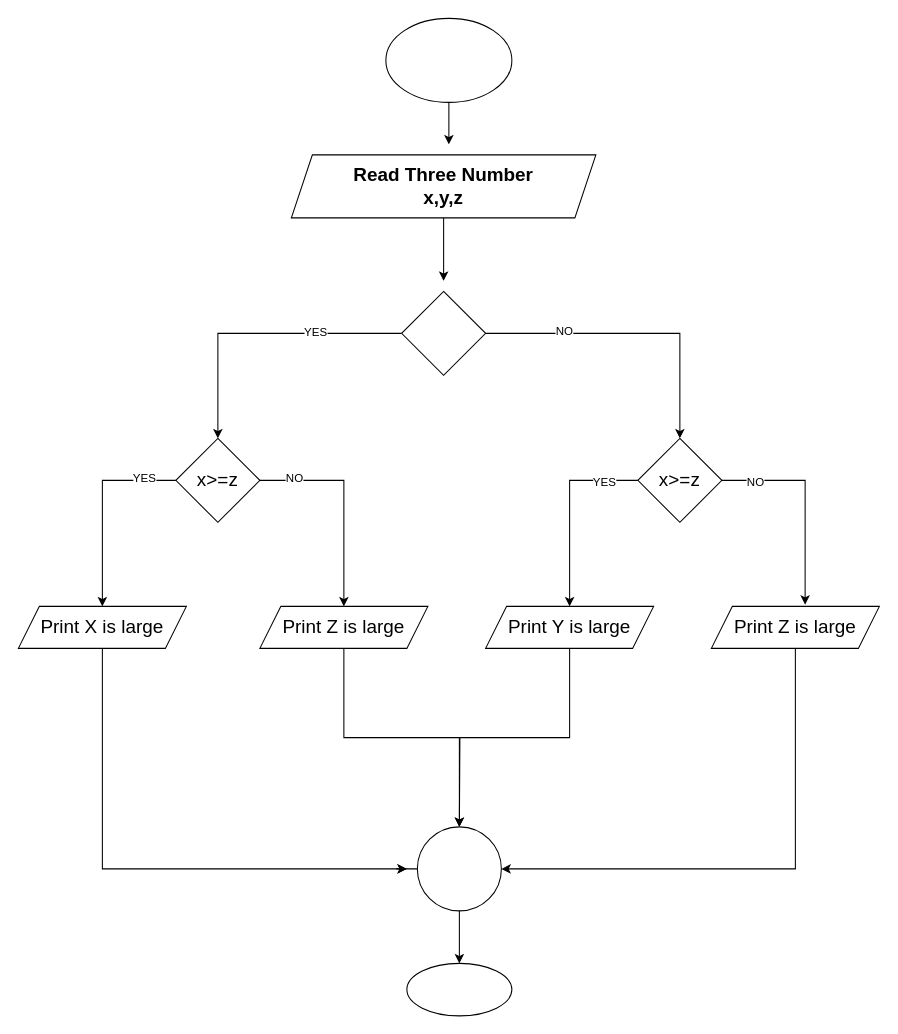
This 898x1034 diagram has some shape labels left out. Here are the shapes that lost their labels. From the top down, the centre of each, then its label:
point (448, 59): Start
point (443, 332): x>=y
point (459, 989): STOP
